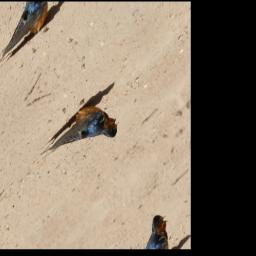Swallow: (39, 90, 123, 192)
